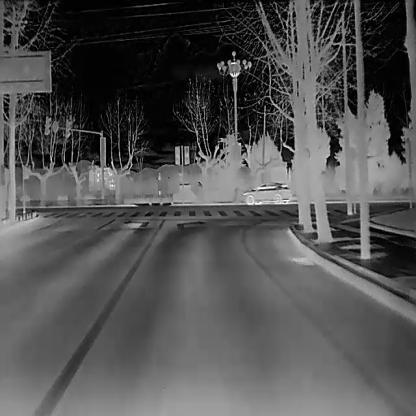car: (242, 181, 291, 207)
